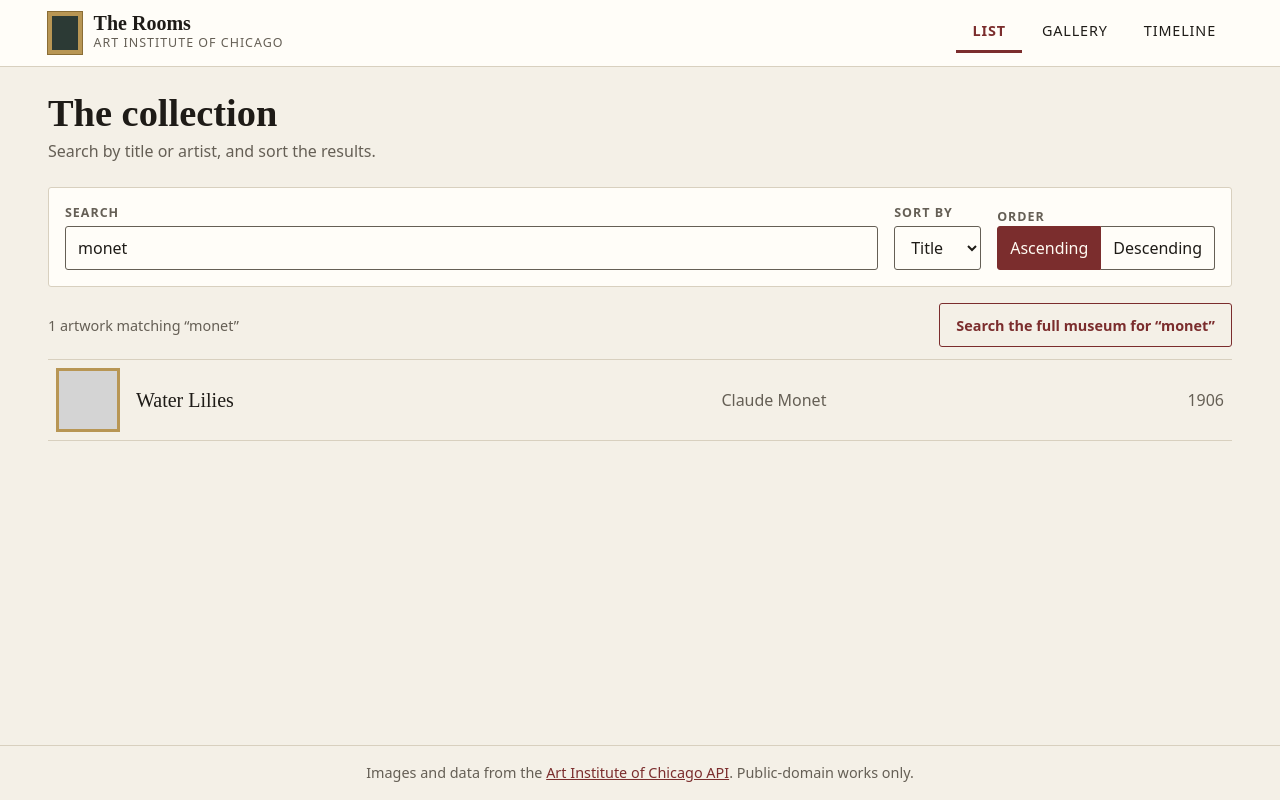
Scenario: ListView › adds full-museum matches to the rows
Expected: the text "1 artwork matching “monet”" is shown, [48,315,239,336]
Click the button "Search the full museum for “monet”": [1086, 326] box [939,304,1232,348]
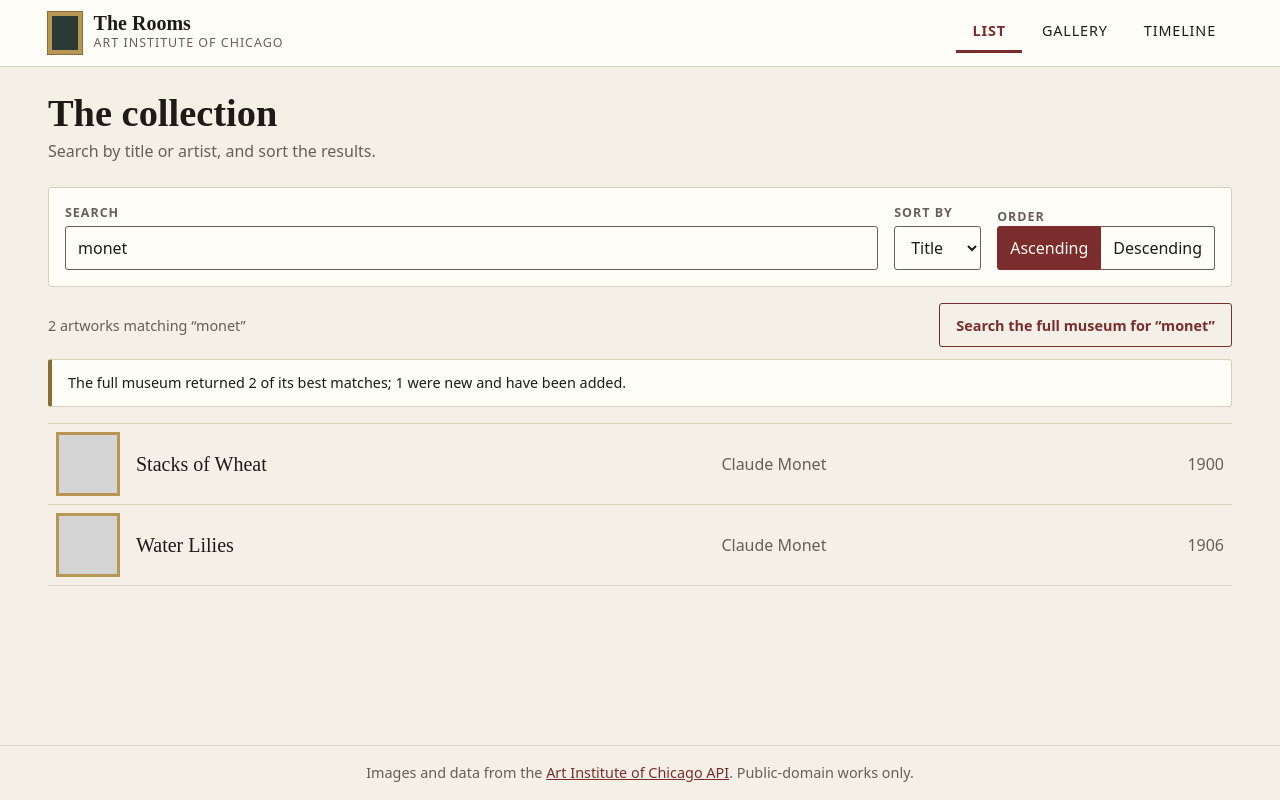
Result: the link "Stacks of Wheat Claude Monet 1900" is shown at [48,424,1232,505]
Result: the text "The full museum returned 2 of its best matches; 1 were new and have been added." is shown at [68,372,626,394]
